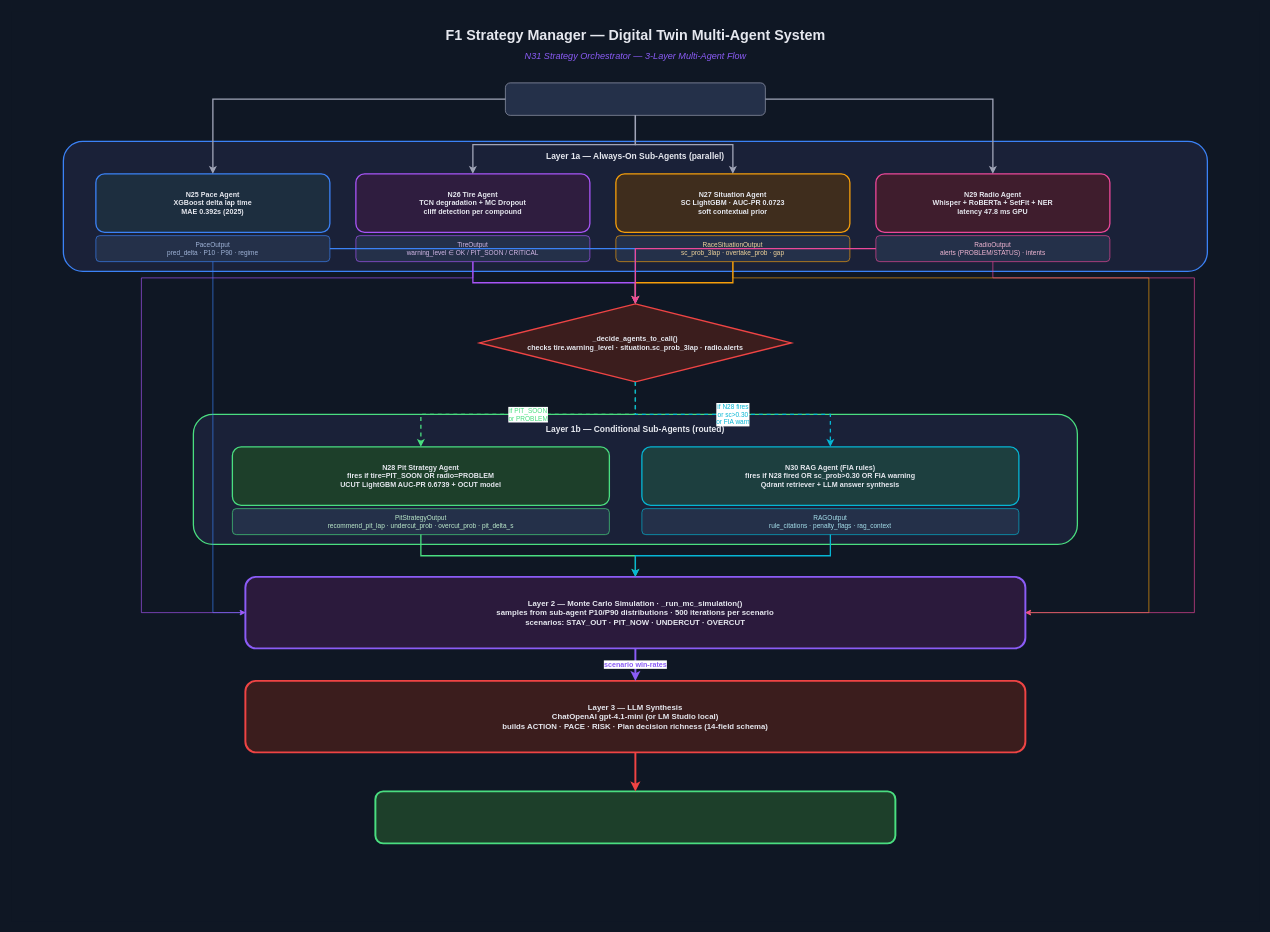
Some shapes in this 1270 by 932 pixel diagram are drawn without their labels. Here are the shapes that lost their labels. From the top down, the centre of each, then its label:
(x=635, y=98): RaceState · laps_df · lap_state
(x=635, y=817): StrategyRecommendation action · confidence · reasoning · plan · guardrail_flag
